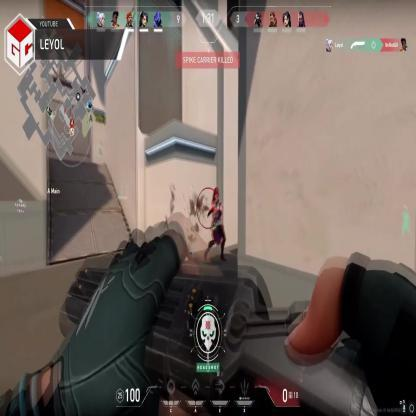enemy: (205, 190, 225, 262)
enemy_head: (213, 190, 219, 200)
